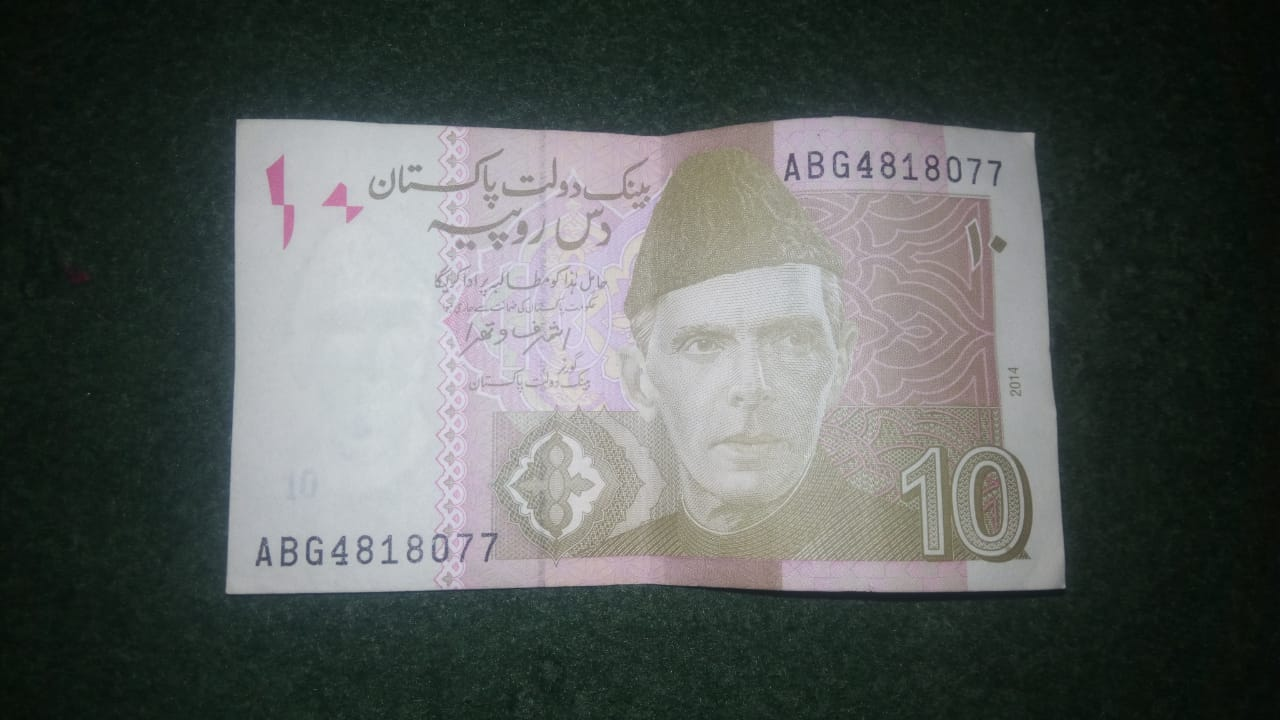10 rupee: (223, 113, 1067, 592)
